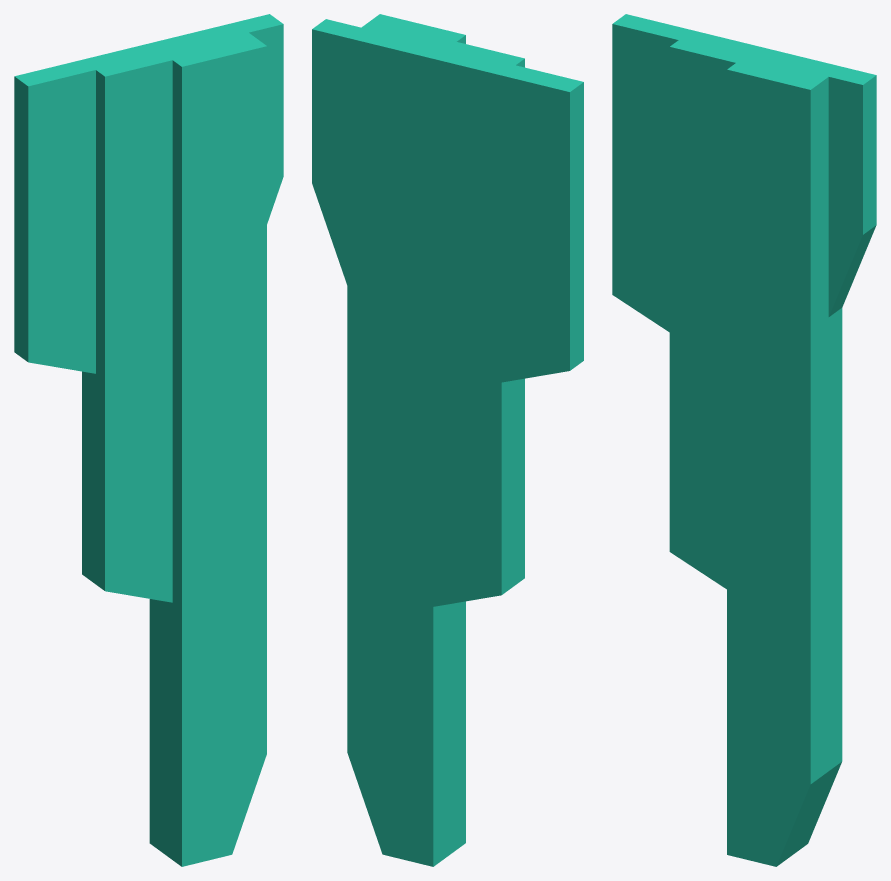
File: hanging_moss.obj
3 views of the same model, side by side, from view 1: azimuth 30°, elevation 25°; view 2: azimuth 150°, elevation 25°; view 3: azimuth 330°, elevation 25° (orthographic). The views are drawn at different scales.
Visible parts, largest first — view 1: hanging_moss; view 2: hanging_moss; view 3: hanging_moss.
Boxes of the visible parts, x1,y1,x2,y2 form: hanging_moss: (14, 14, 283, 866); hanging_moss: (312, 14, 583, 866); hanging_moss: (612, 14, 876, 866).
Size of the model in its own units: 0.1598 by 0.4785 by 0.035.
